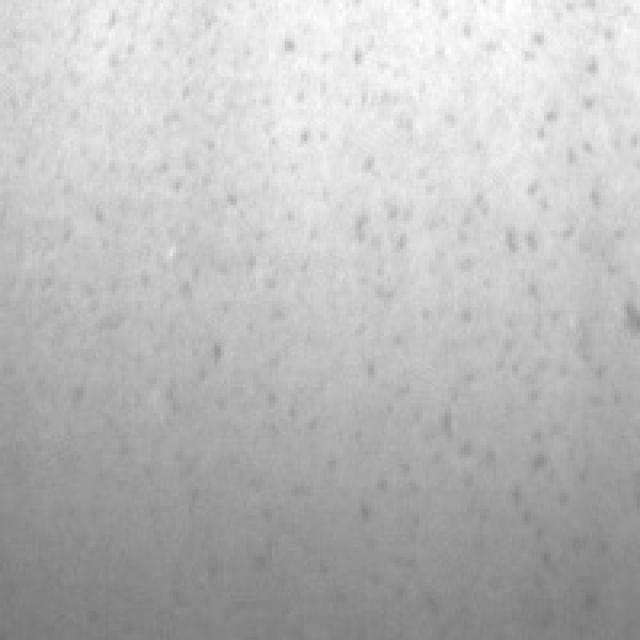pitted_surface: (352, 0, 621, 602), (51, 6, 301, 445)
